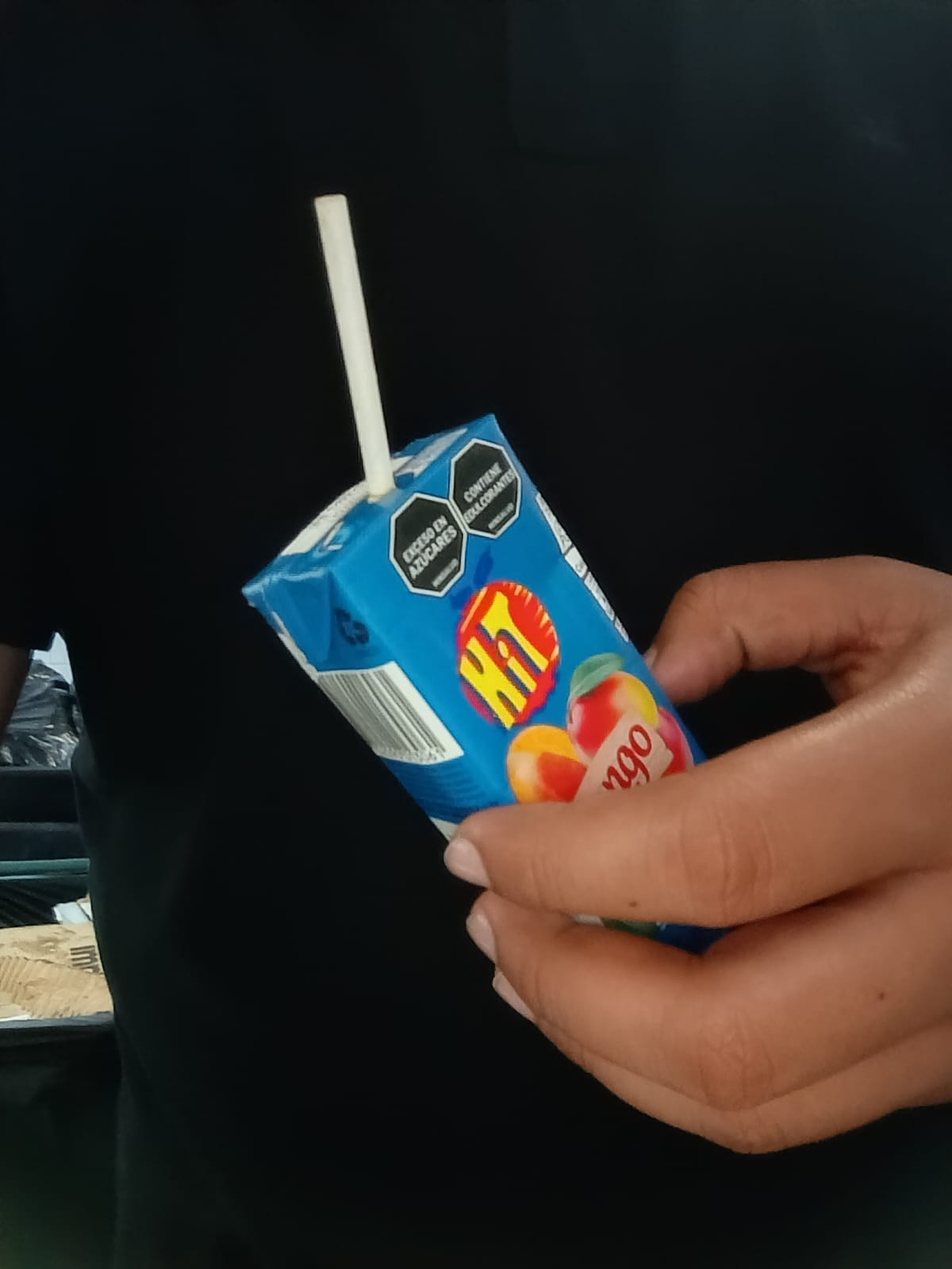Carton: (243, 409, 721, 945)
